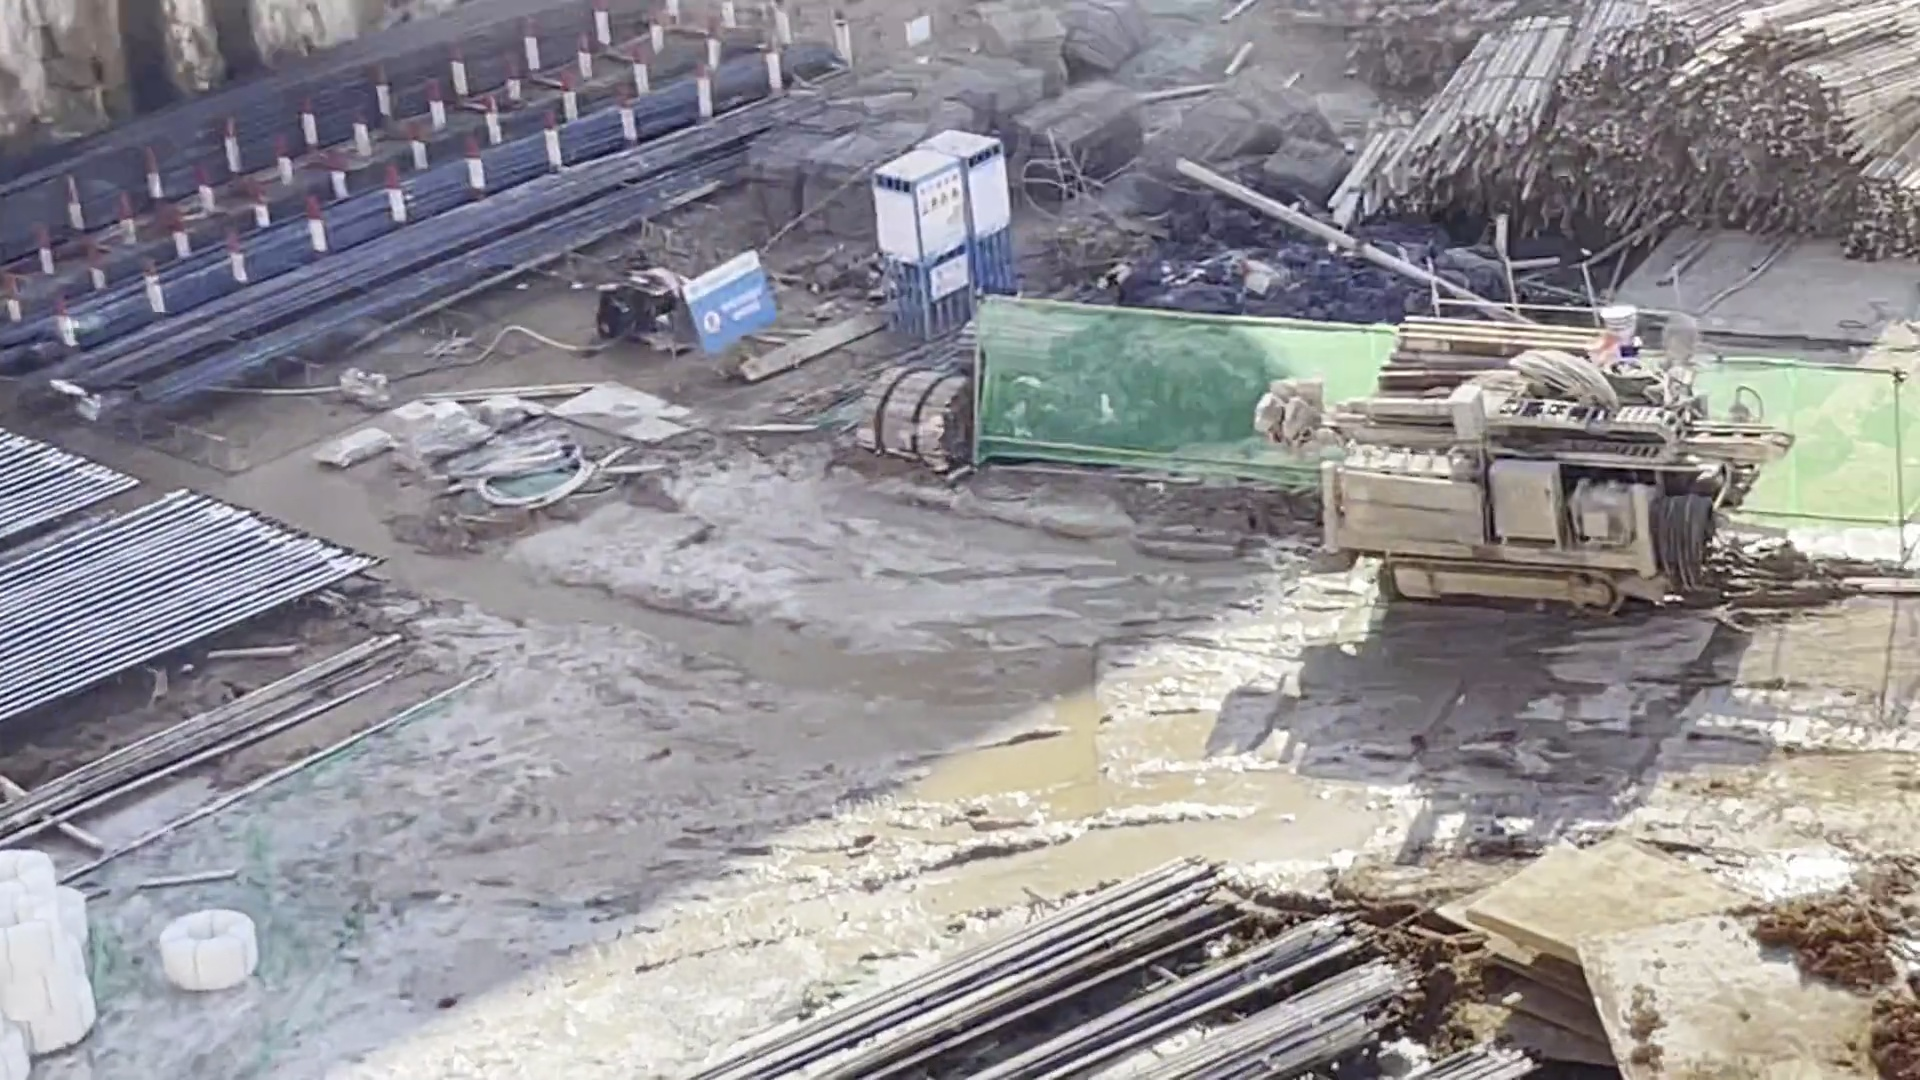fence: (907, 167, 975, 302), (688, 251, 762, 342)
rebar: (7, 7, 849, 419), (658, 852, 1258, 1080), (1, 423, 392, 737), (1557, 1, 1844, 248), (1352, 1, 1553, 228), (1826, 162, 1920, 262)
